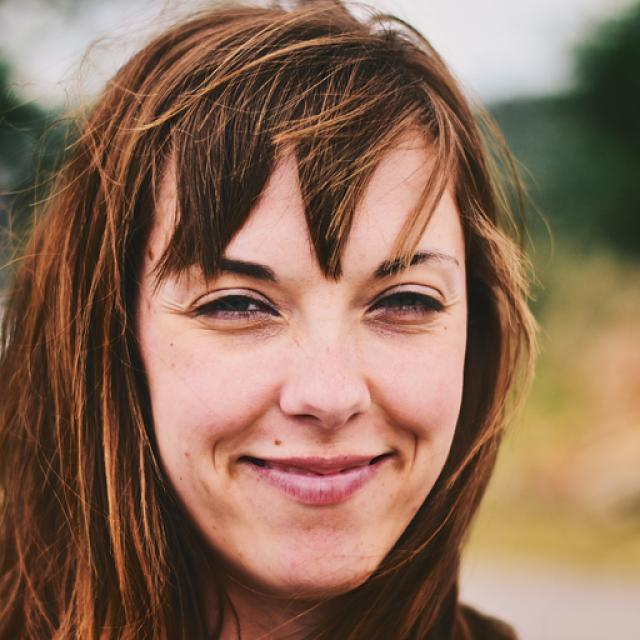Acne: (262, 434, 288, 447)
